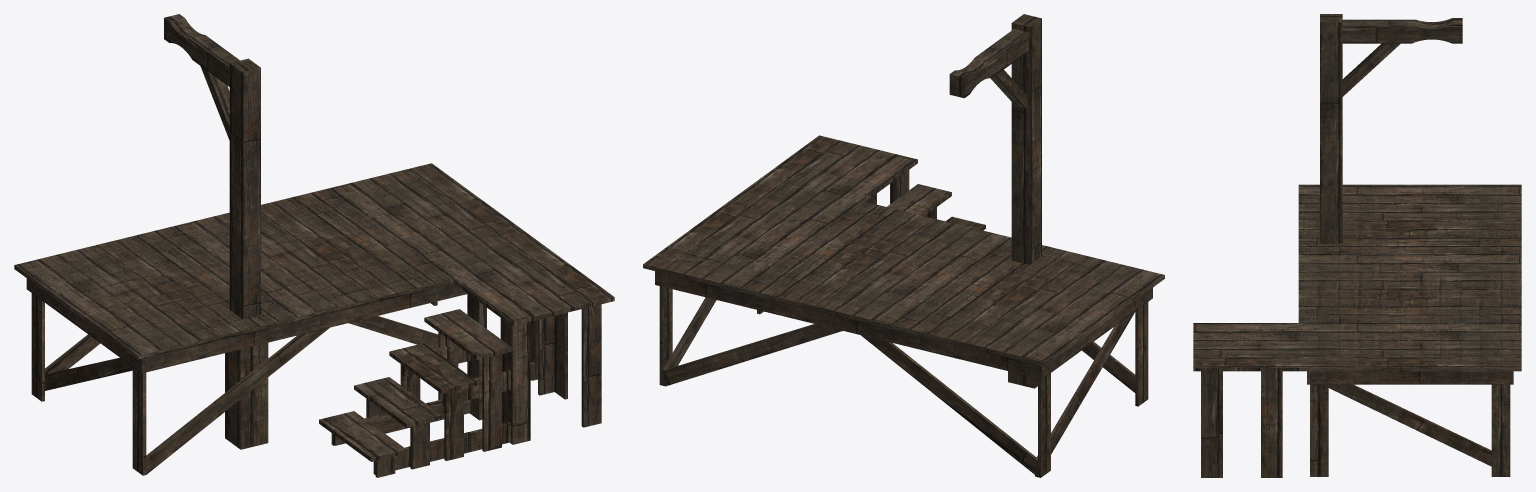
File: Hang mans.fbx
3 renders of one model, left to right at view 1: azimuth 30°, elevation 25°; view 2: azimuth 150°, elevation 25°; view 3: azimuth 270°, elevation 25°, orthographic. The views are drawn at different scales.
Visible parts, largest first — view 1: Model; view 2: Model; view 3: Model.
Boxes of the visible parts, x1,y1,x2,y2 form: Model: [14, 14, 614, 477]; Model: [643, 14, 1164, 477]; Model: [1193, 14, 1521, 477].
Size of the model in its own units: 210 by 180 by 160.
